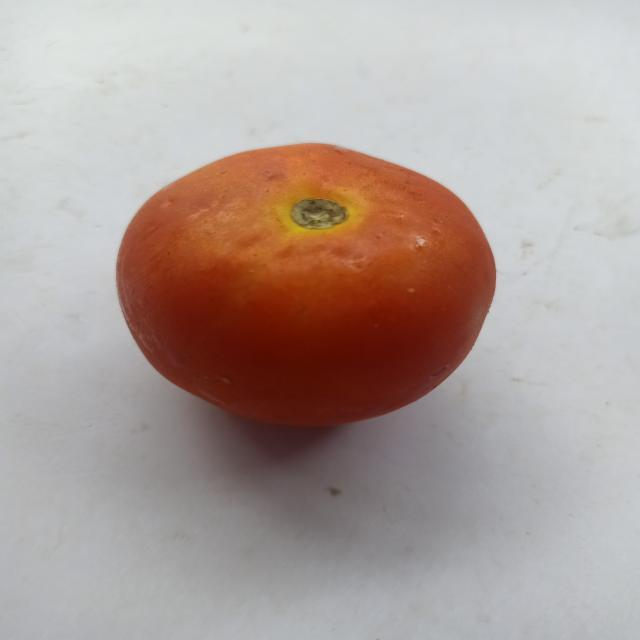Tomato: (99, 128, 514, 446)
